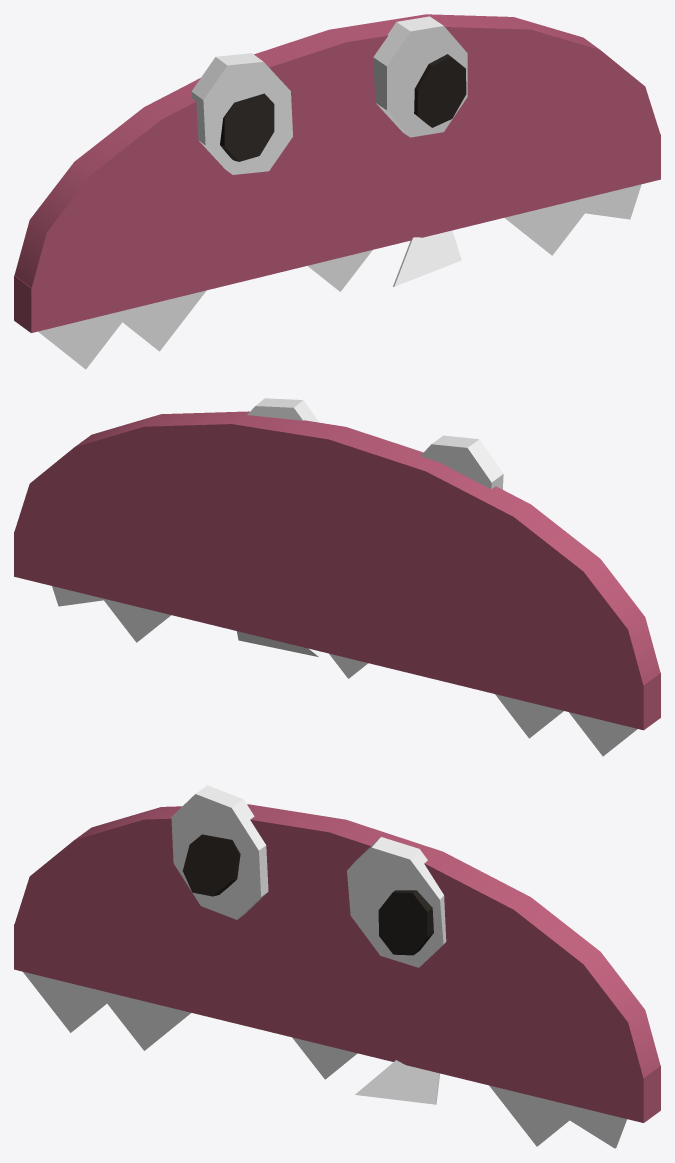
Rendered from Cara2.fbx.
3 renders of one model, top to bottom at view 1: azimuth 30°, elevation 25°; view 2: azimuth 150°, elevation 25°; view 3: azimuth 330°, elevation 25°, orthographic.
Parts seen in each view (by area): view 1: Cara2; view 2: Cara2; view 3: Cara2.
Part boxes in pixels (left/top/right/bottom): Cara2: left=14, top=14, right=660, bottom=369; Cara2: left=14, top=398, right=660, bottom=756; Cara2: left=14, top=785, right=660, bottom=1148.
Bounding box in the file's own units: 9.11 × 3.84 × 0.8031.
